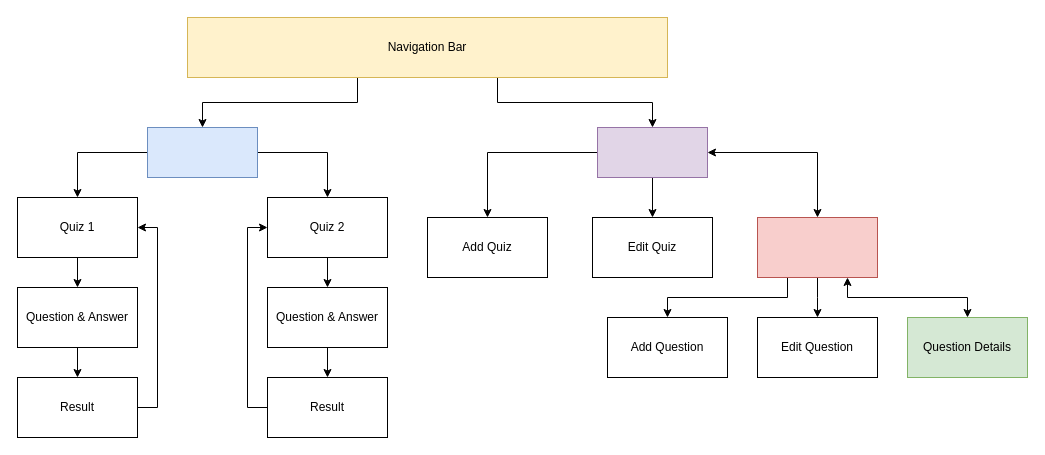
This 1045x455 diagram has some shape labels left out. The shapes that lost their labels are listed below. From the top down, each one's box as (x1, y1, x2, y2) in pixels, then its label:
(146, 126, 258, 178): Home Page
(596, 126, 708, 178): Quizzes
(756, 216, 878, 278): Quiz Details
